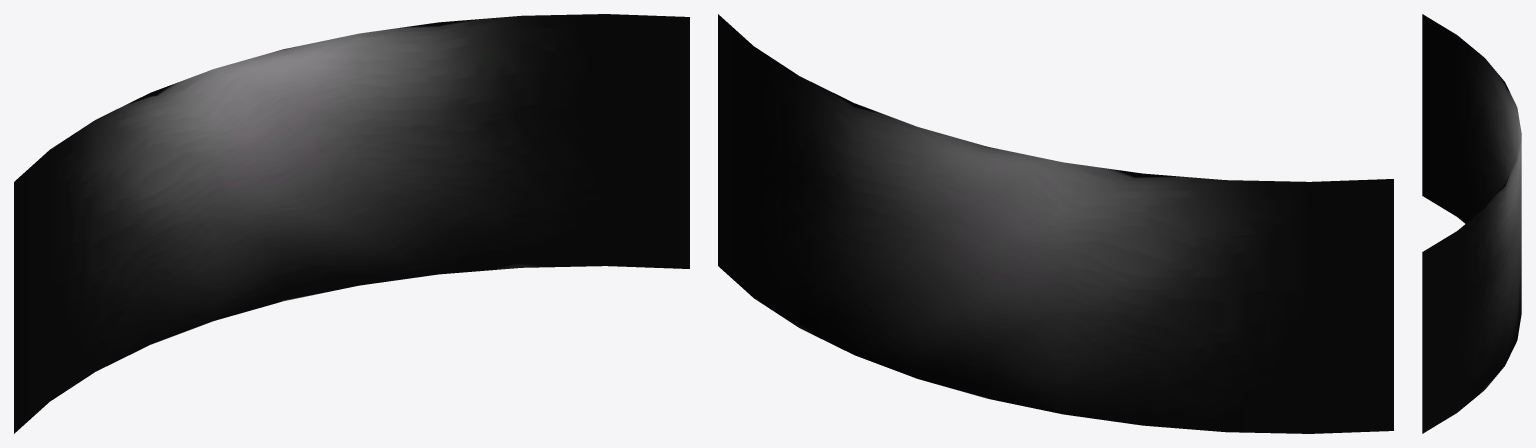
The model's file is cha_back_aura02.FBX.
3 renders of one model, left to right at view 1: azimuth 30°, elevation 25°; view 2: azimuth 150°, elevation 25°; view 3: azimuth 270°, elevation 25°, orthographic. The views are drawn at different scales.
Visible parts, largest first — view 1: Plane002; view 2: Plane002; view 3: Plane002.
Boxes of the visible parts, box(x1,y1,x2,y2) form: Plane002: box(14, 14, 689, 433); Plane002: box(718, 14, 1393, 433); Plane002: box(1422, 14, 1521, 433).
Size of the model in its own units: 5853 by 2086 by 1029.
